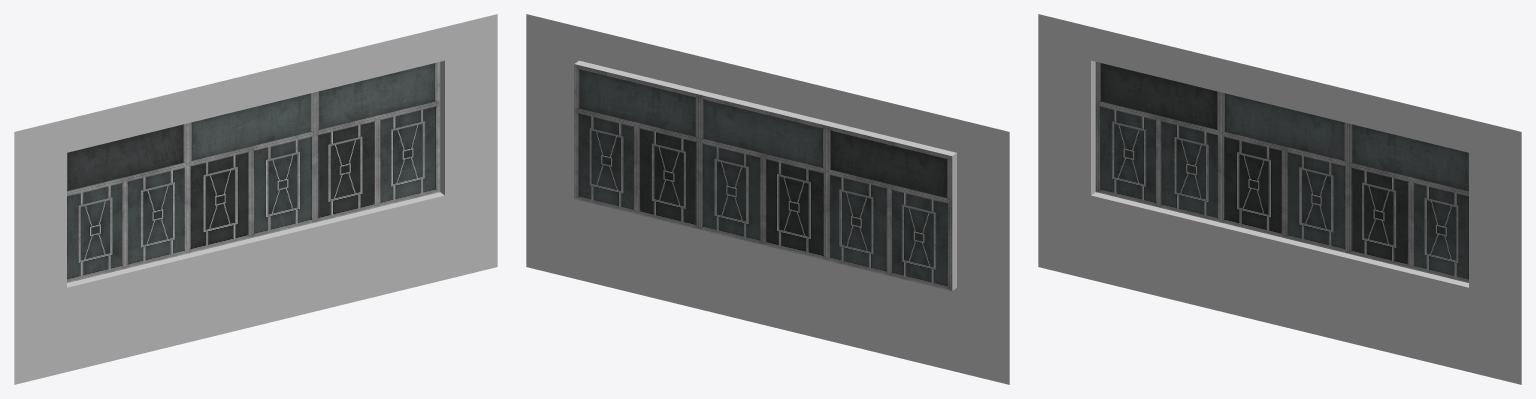
The model's file is Wall_Windows_6.0m_01.fbx.
The picture shows the model from 3 angles, left to right: view 1: azimuth 30°, elevation 25°; view 2: azimuth 150°, elevation 25°; view 3: azimuth 330°, elevation 25°; orthographic projection.
Parts seen in each view (by area): view 1: Wall_Windows_6.0m_01; view 2: Wall_Windows_6.0m_01; view 3: Wall_Windows_6.0m_01.
Boxes of the visible parts, left/top/right/bottom form: Wall_Windows_6.0m_01: left=14, top=14, right=497, bottom=384; Wall_Windows_6.0m_01: left=526, top=14, right=1009, bottom=384; Wall_Windows_6.0m_01: left=1038, top=14, right=1521, bottom=384.
Bounding box in the file's own units: 600 × 300 × 10.2.
